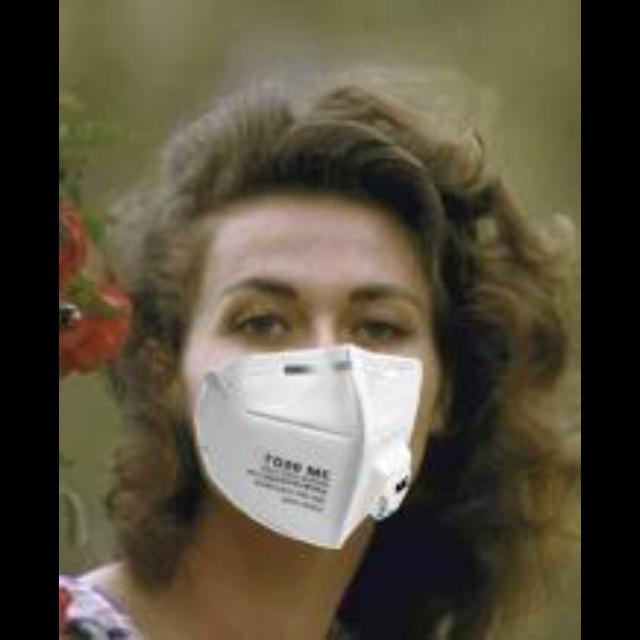suspicion: (149, 147, 507, 546)
